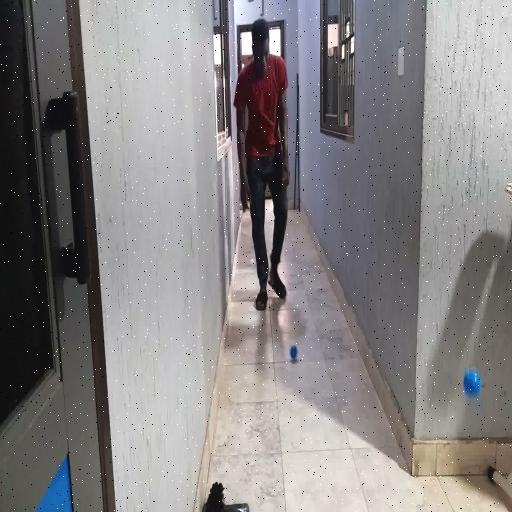plastic-ball: (463, 368, 482, 396)
